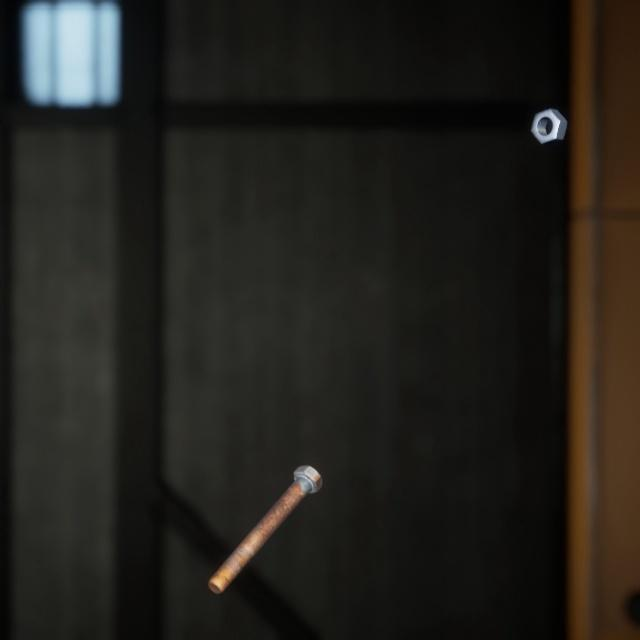bolt: (203, 439, 326, 575)
nut: (526, 91, 571, 136)
